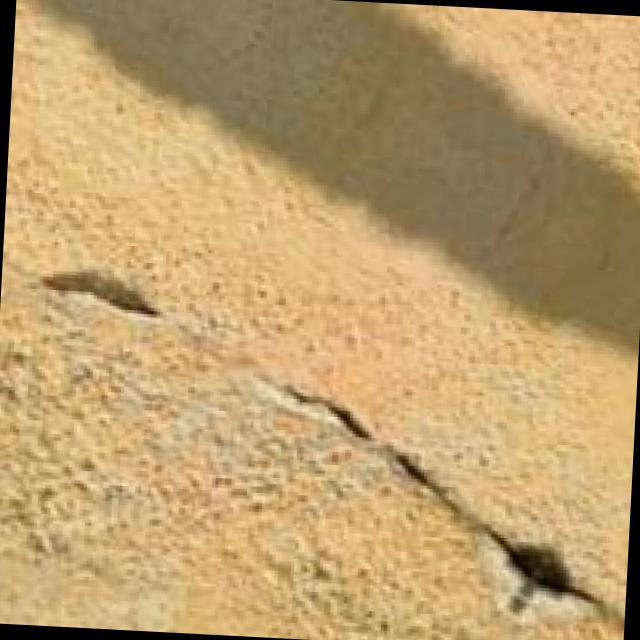crack: (11, 259, 640, 636)
